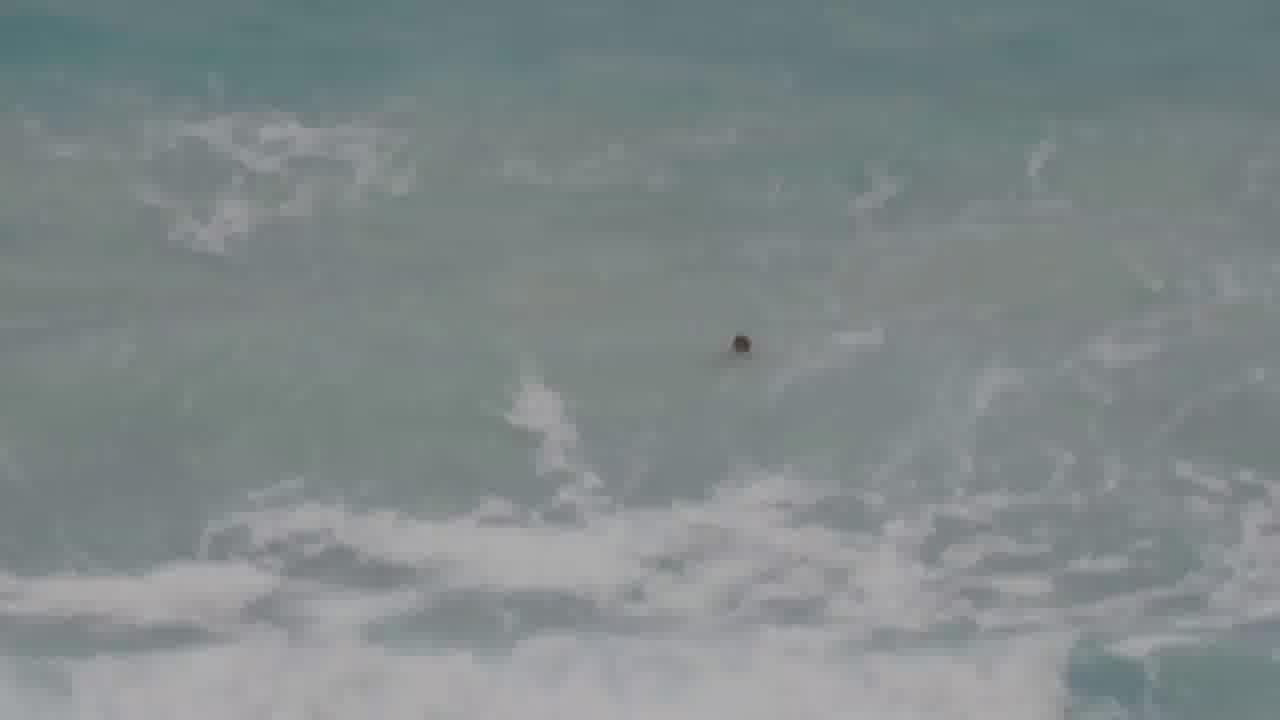swimmer: (716, 317, 765, 366)
